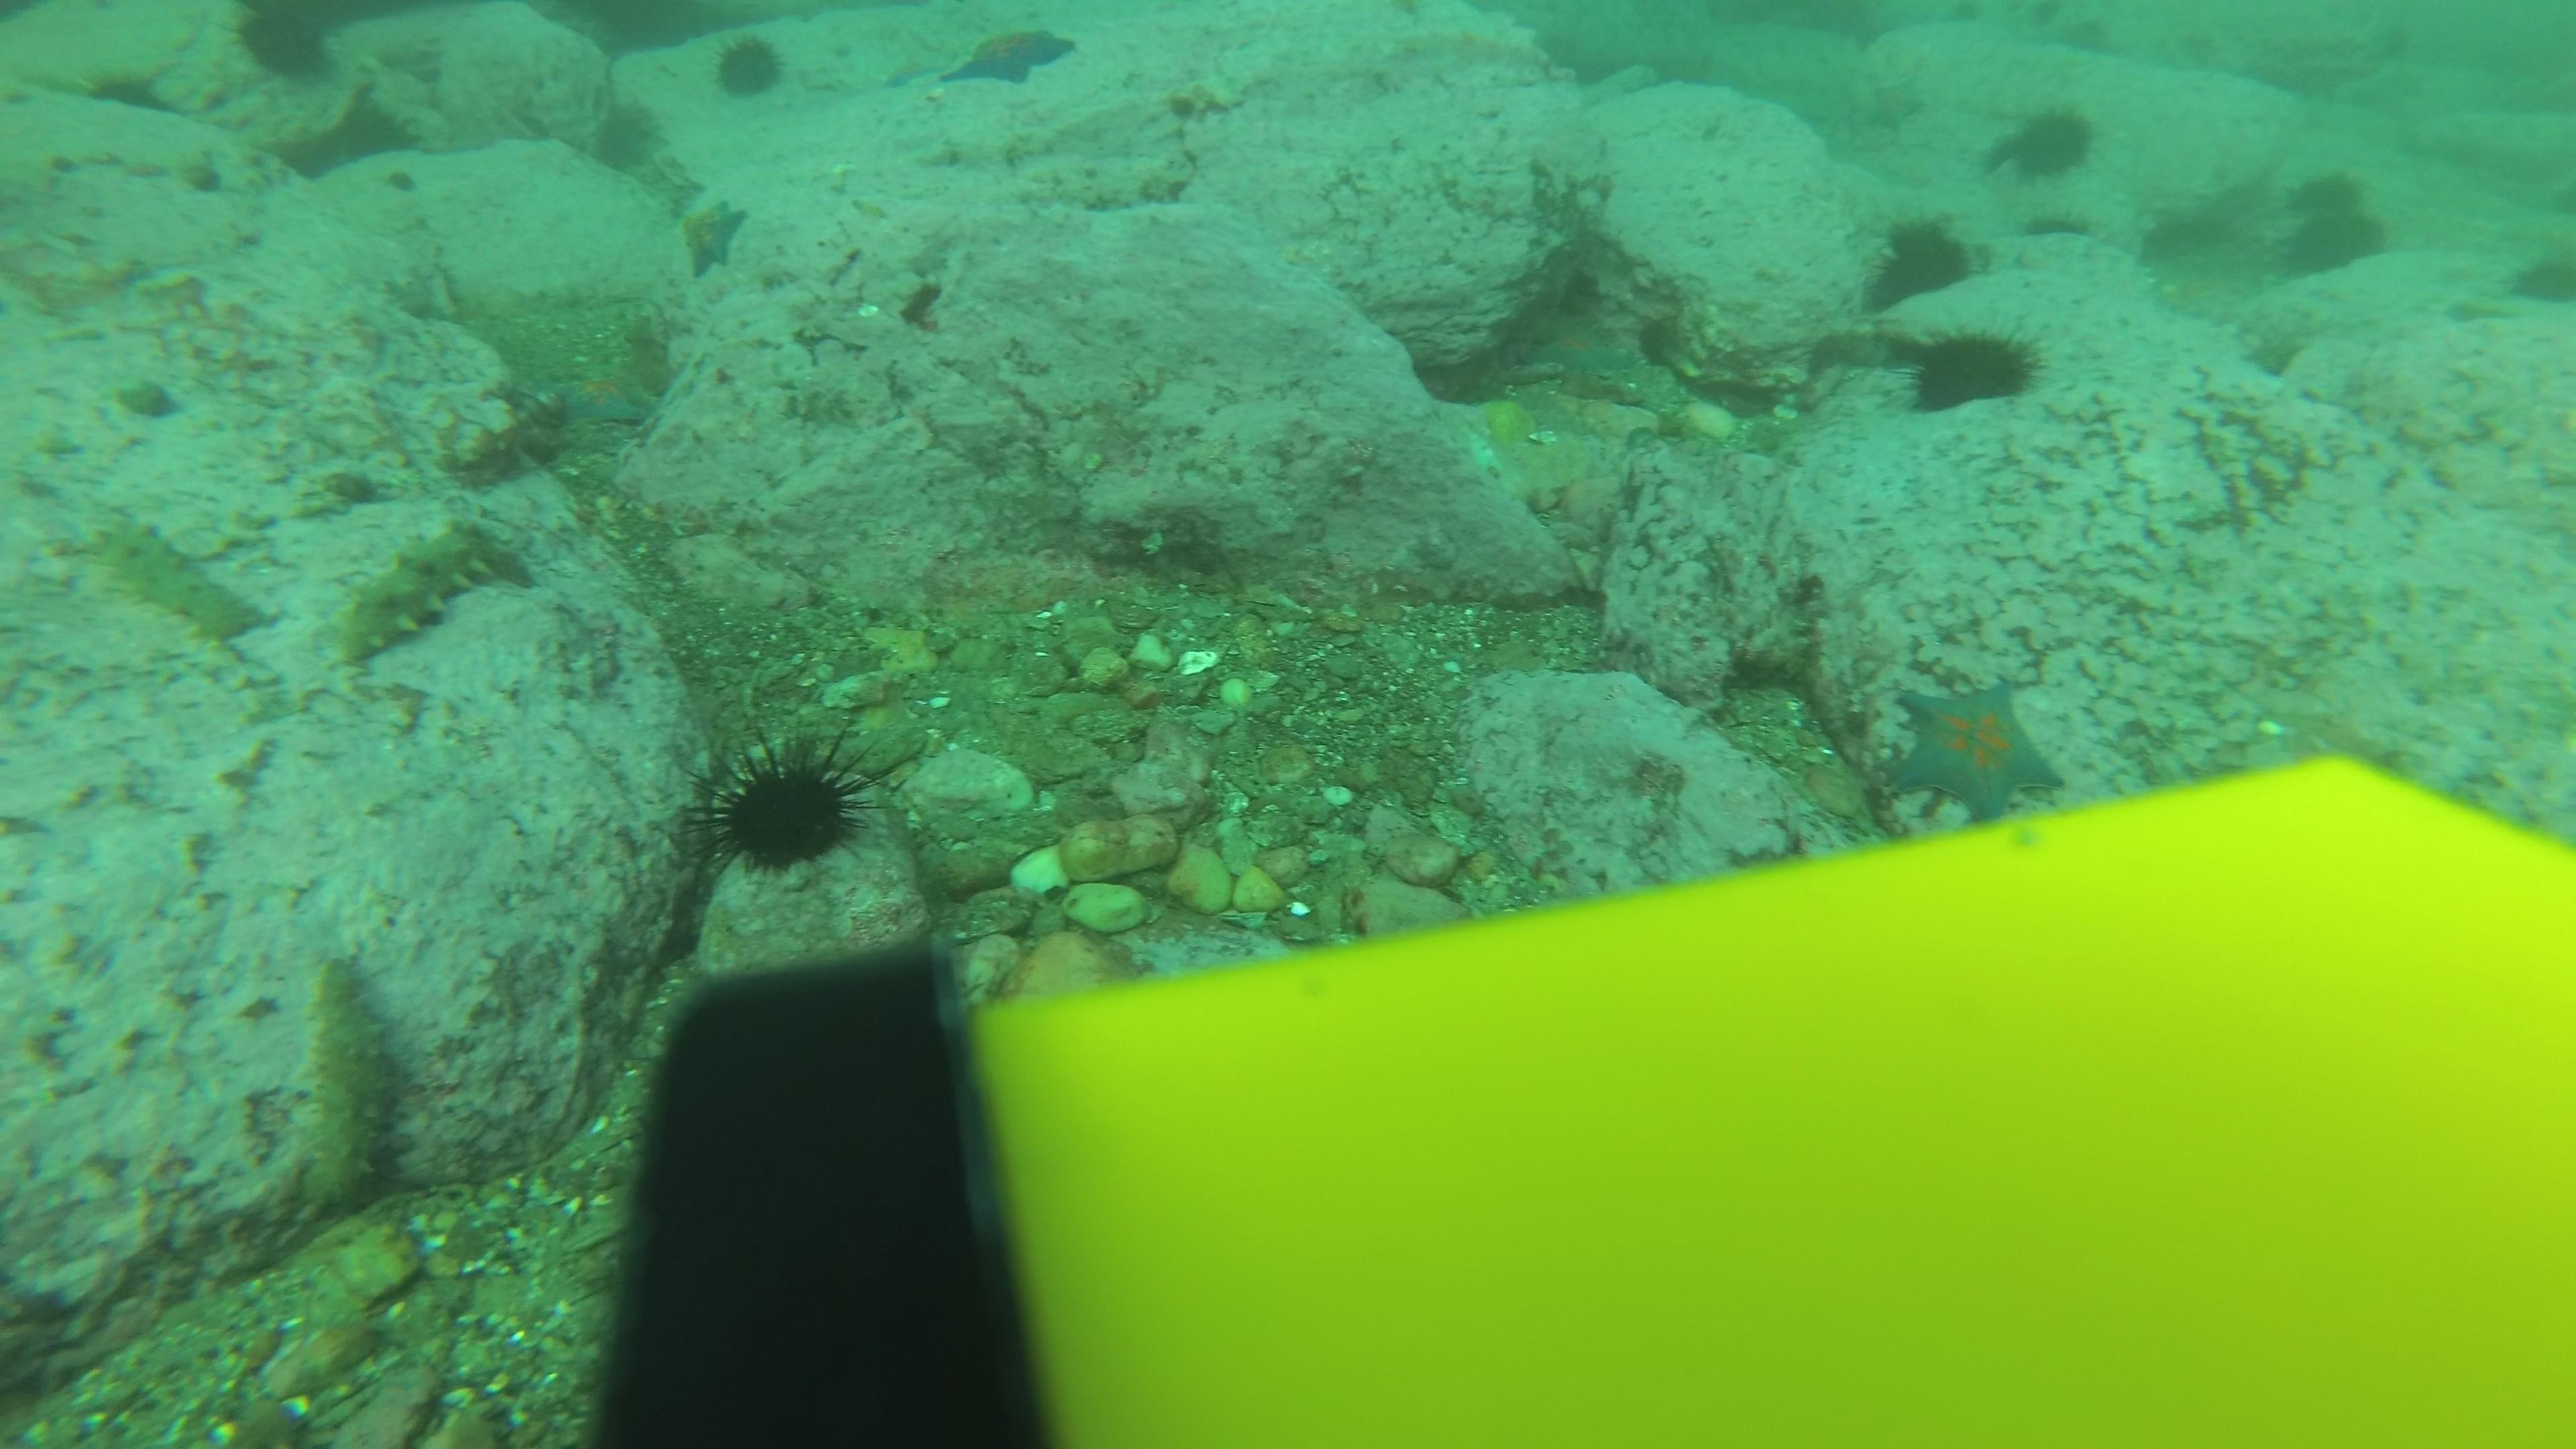echinus: (699, 732, 870, 878), (1900, 322, 2040, 418), (1861, 211, 1980, 311), (1989, 97, 2102, 184), (228, 2, 345, 85), (584, 94, 667, 175), (2293, 212, 2387, 280), (708, 30, 791, 104), (2282, 161, 2376, 226), (2503, 241, 2576, 310)
holothurian: (276, 947, 409, 1221), (324, 510, 527, 674), (87, 511, 283, 648)
starfish: (1882, 672, 2066, 824), (931, 18, 1081, 92), (1514, 313, 1647, 395), (543, 357, 665, 432), (672, 191, 752, 280), (2240, 322, 2309, 379)
